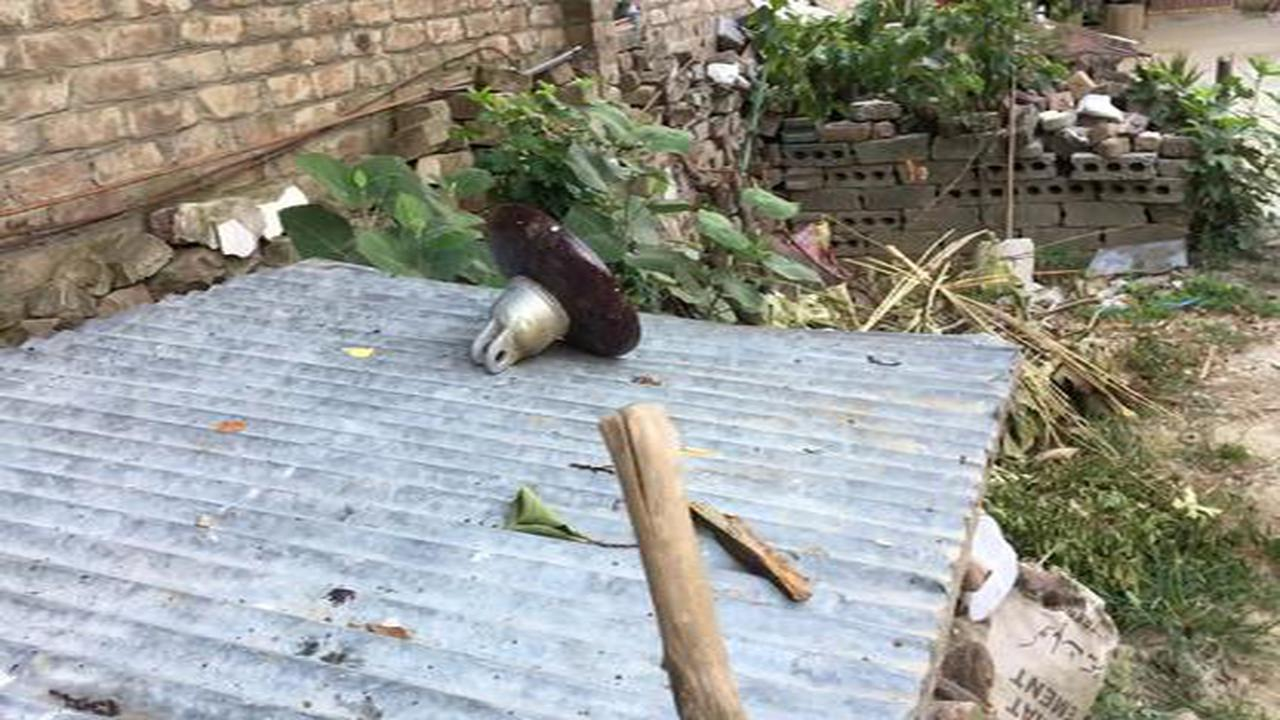insulator_disc: (463, 197, 653, 383)
